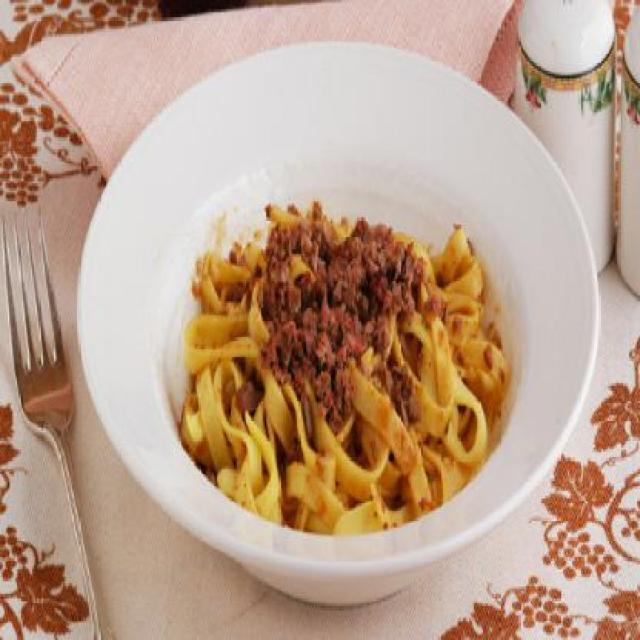Pasta al ragu: (165, 173, 528, 521)
